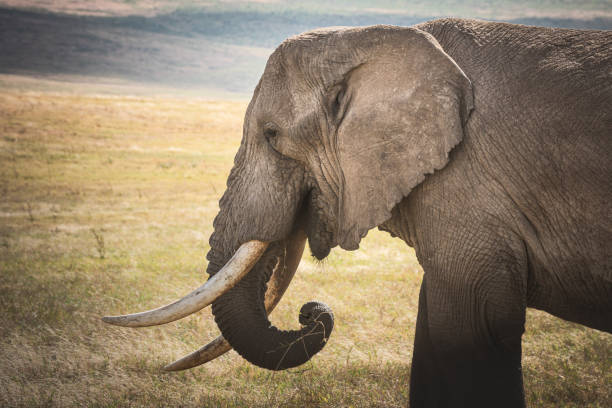africanelephant: (88, 19, 471, 381)
